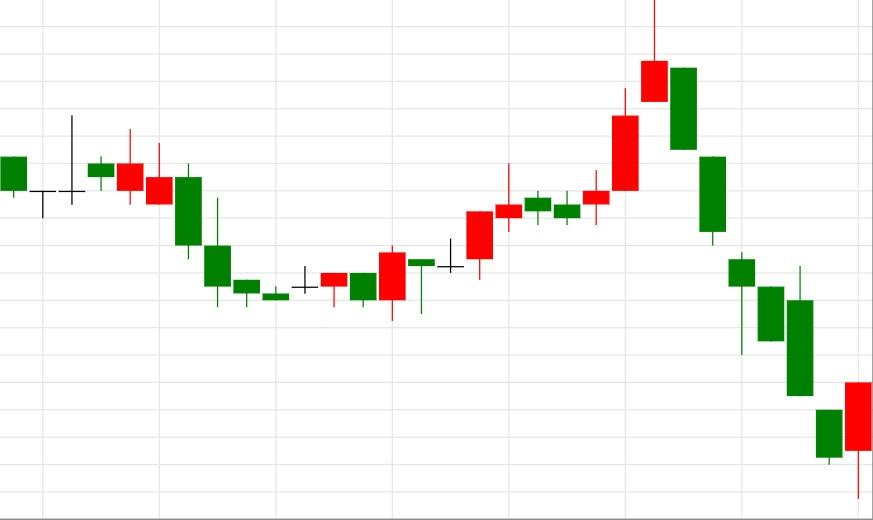bullish_engulfing_rise: (116, 129, 407, 321)
three_black_crows_fall: (377, 0, 757, 356)
